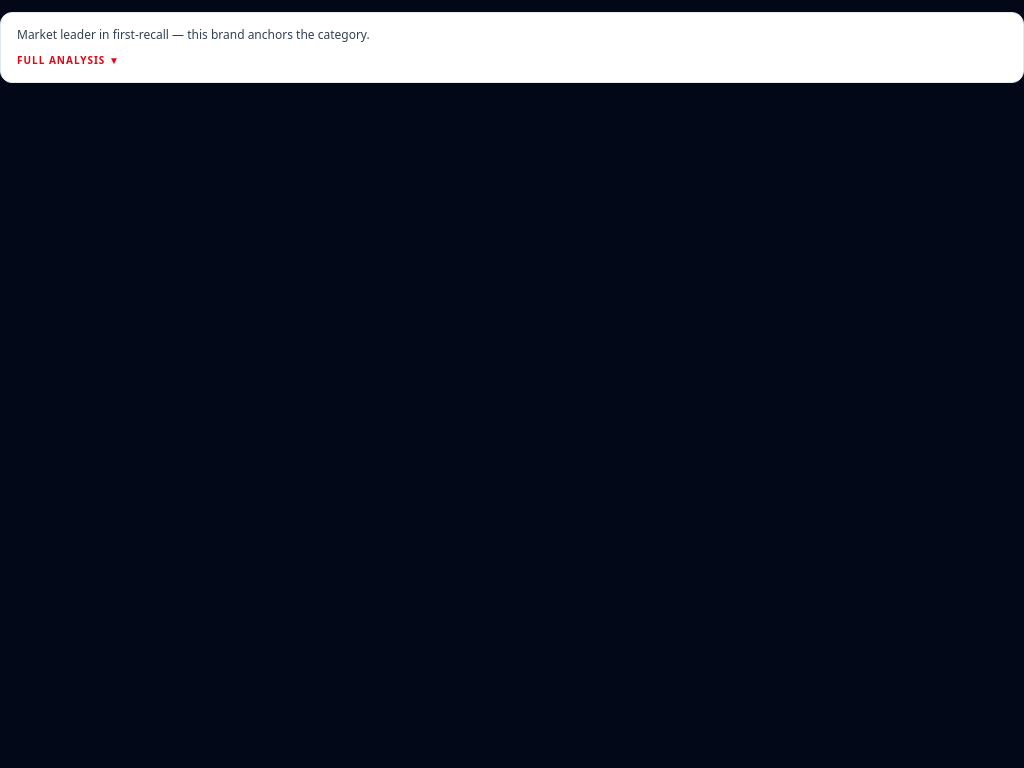
Test: AwarenessInsightPanel › opens modal with detail content when button is clicked
Click the button "FULL ANALYSIS ▼": click(68, 60) [17,52,120,68]
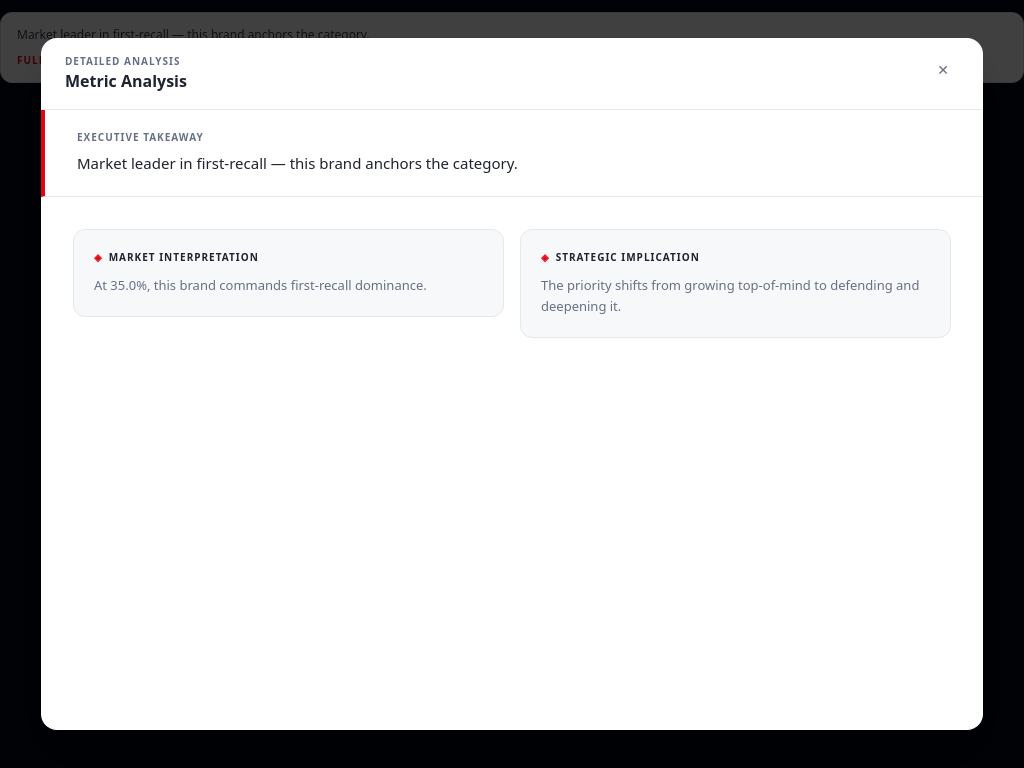
Result: the text "◈ STRATEGIC IMPLICATION" is shown at [541,250,700,264]
